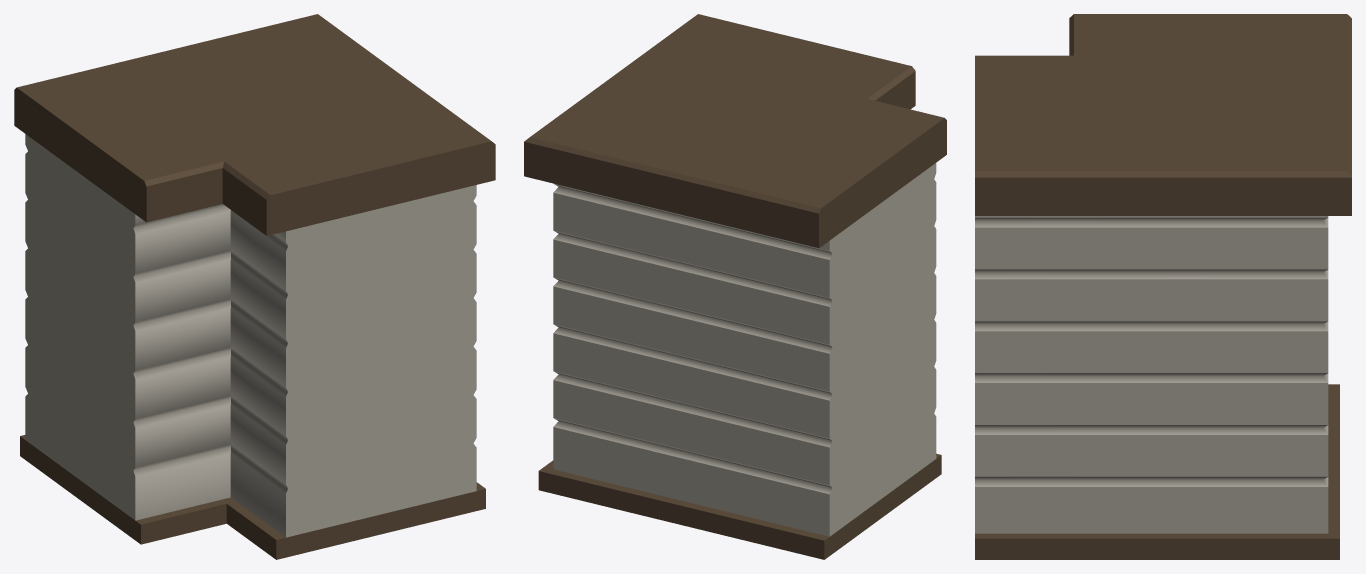
The model's file is SM_Counter_03_corner.glb.
The picture shows the model from 3 angles, left to right: view 1: azimuth 30°, elevation 25°; view 2: azimuth 150°, elevation 25°; view 3: azimuth 270°, elevation 25°; orthographic projection. The views are drawn at different scales.
Parts seen in each view (by area): view 1: SM_Counter_03_corner; view 2: SM_Counter_03_corner; view 3: SM_Counter_03_corner.
Boxes of the visible parts, bbox=[...] form: SM_Counter_03_corner: bbox=[14, 14, 495, 559]; SM_Counter_03_corner: bbox=[524, 14, 946, 559]; SM_Counter_03_corner: bbox=[975, 14, 1351, 559].
Size of the model in its own units: 0.8 by 0.9174 by 0.8.
1 material, 1 textured.
